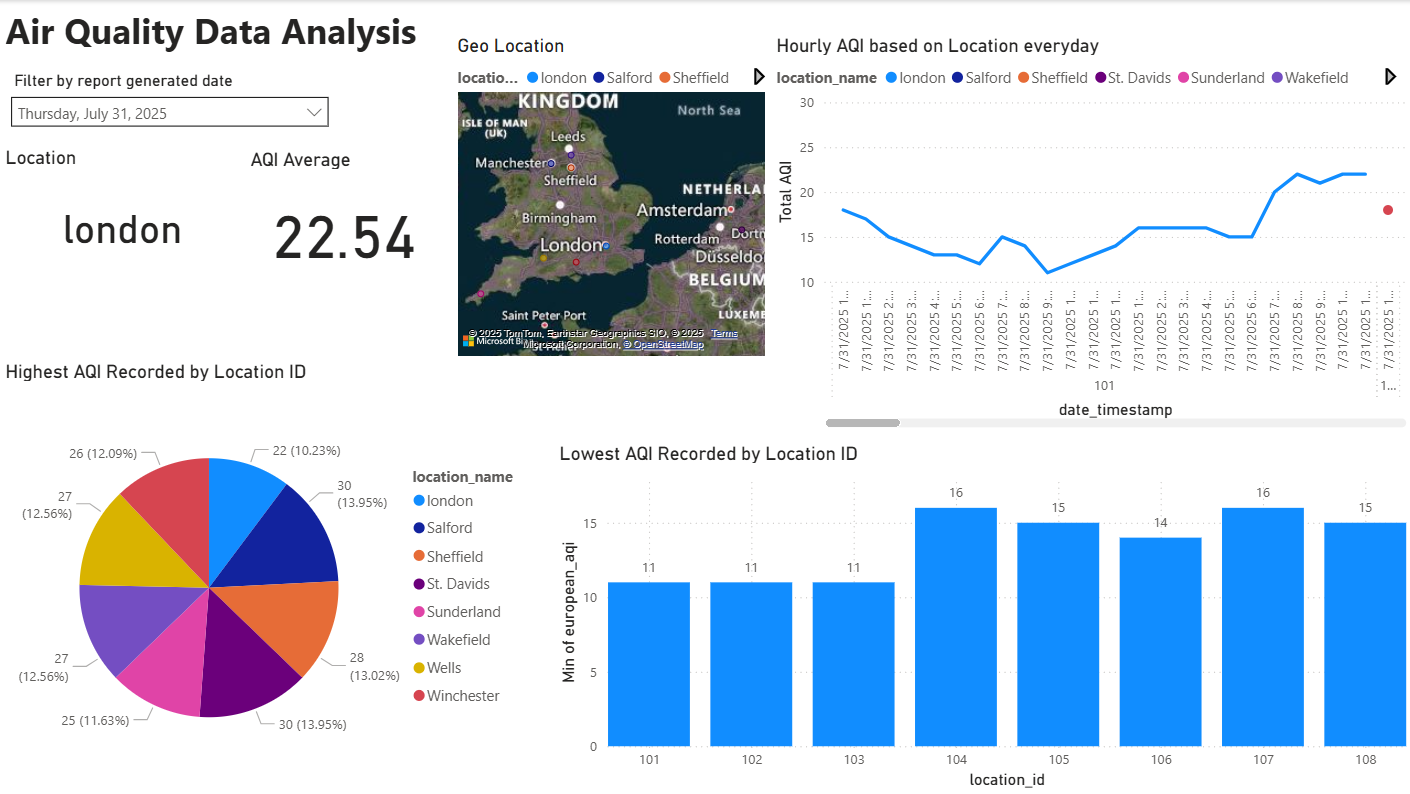

Layout of this report page (visuals, bound fields, positions):
{"tool":"powerbi","page":{"name":"Page 1","canvas":[1280,720],"ordinal":0},"visuals":[{"type":"columnChart","title":"Lowest AQI Recorded by Location ID","fields":{"Category":["dim_locations.location_id"],"Y":["Min(dim_metrics.european_aqi)"]},"box":[502.2,401.1,777.8,318.9],"z":0},{"type":"pieChart","title":"Highest AQI Recorded by Location ID","fields":{"Y":["Max(dim_metrics.european_aqi)"],"Series":["dim_locations.location_name"]},"box":[0,326,487,394],"z":1000},{"type":"lineChart","title":"Hourly AQI based on Location everyday","fields":{"Category":["dim_locations.location_id","dim_metrics.date_timestamp Hierarchy.date_timestamp"],"Y":["Sum(dim_metrics.european_aqi)"],"Series":["dim_locations.location_name"]},"box":[699,31,581,362],"z":2000},{"type":"map","title":"Geo Location","fields":{"Y":["dim_locations.latitude"],"X":["dim_locations.longitude"],"Series":["dim_locations.location_name"]},"box":[410,31.1,288.9,297.8],"z":3000},{"type":"kpi","title":"AQI Average","fields":{"TrendLine":["dim_locations.location_id"],"Indicator":["Avg(dim_metrics.european_aqi)"]},"box":[222.2,134.4,180,141.1],"z":4000},{"type":"slicer","fields":{"Values":["dim_metrics.generated_date"]},"box":[0,59.7,307.6,72.7],"z":5000},{"type":"card","title":"Location","fields":{"Values":["Min(dim_locations.location_name)","select"]},"box":[0,132.2,222.2,145.6],"z":6000},{"type":"textbox","box":[0,0,410.1,62.7],"z":7000}]}

Visuals, with their boxes in screenshot pixels (x1, y1, x2, y2), scaled from the page's 1280x720 canvas onto the 1410x794 screenshot:
"Lowest AQI Recorded by Location ID" columnChart: rect(553, 442, 1409, 793)
"Highest AQI Recorded by Location ID" pieChart: rect(0, 360, 536, 793)
"Hourly AQI based on Location everyday" lineChart: rect(770, 34, 1409, 433)
"Geo Location" map: rect(452, 34, 770, 363)
"AQI Average" kpi: rect(245, 148, 443, 304)
slicer - dim_metrics.generated_date: rect(0, 66, 339, 146)
"Location" card: rect(0, 146, 245, 306)
textbox: rect(0, 0, 452, 69)
